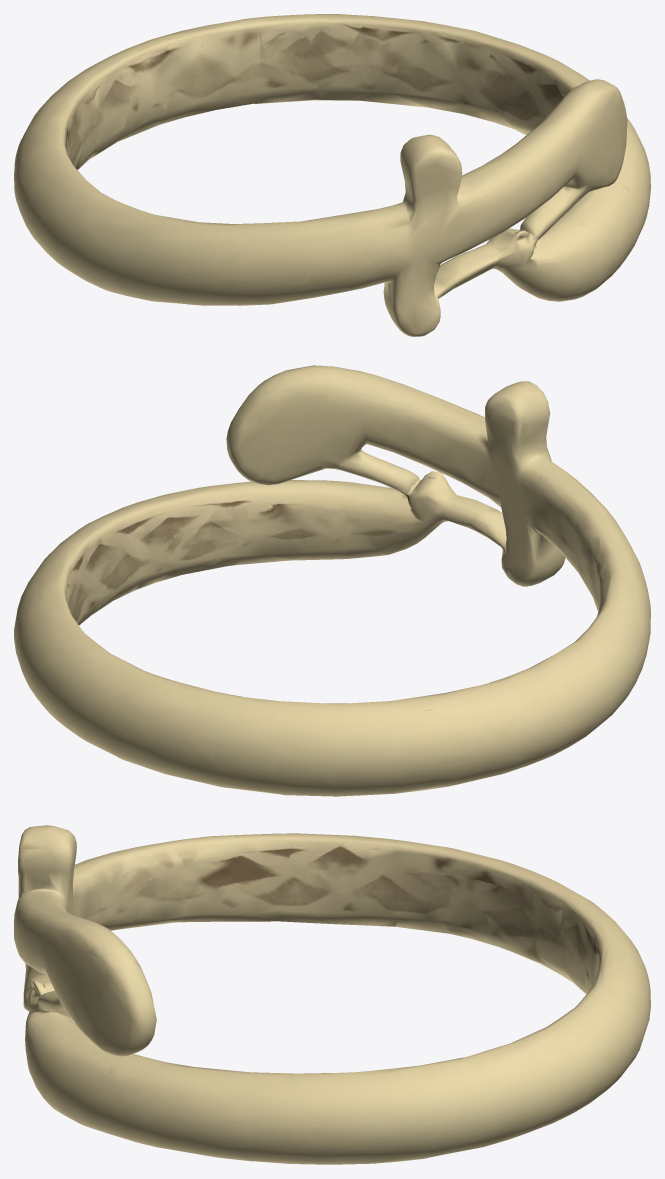
The model's file is 05-خاتم-امان.glb.
3 views of the same model, one above another, from view 1: azimuth 30°, elevation 25°; view 2: azimuth 150°, elevation 25°; view 3: azimuth 270°, elevation 25° (orthographic).
Size of the model in its own units: 1.9 by 0.6685 by 1.9.
1 material, 1 textured.
